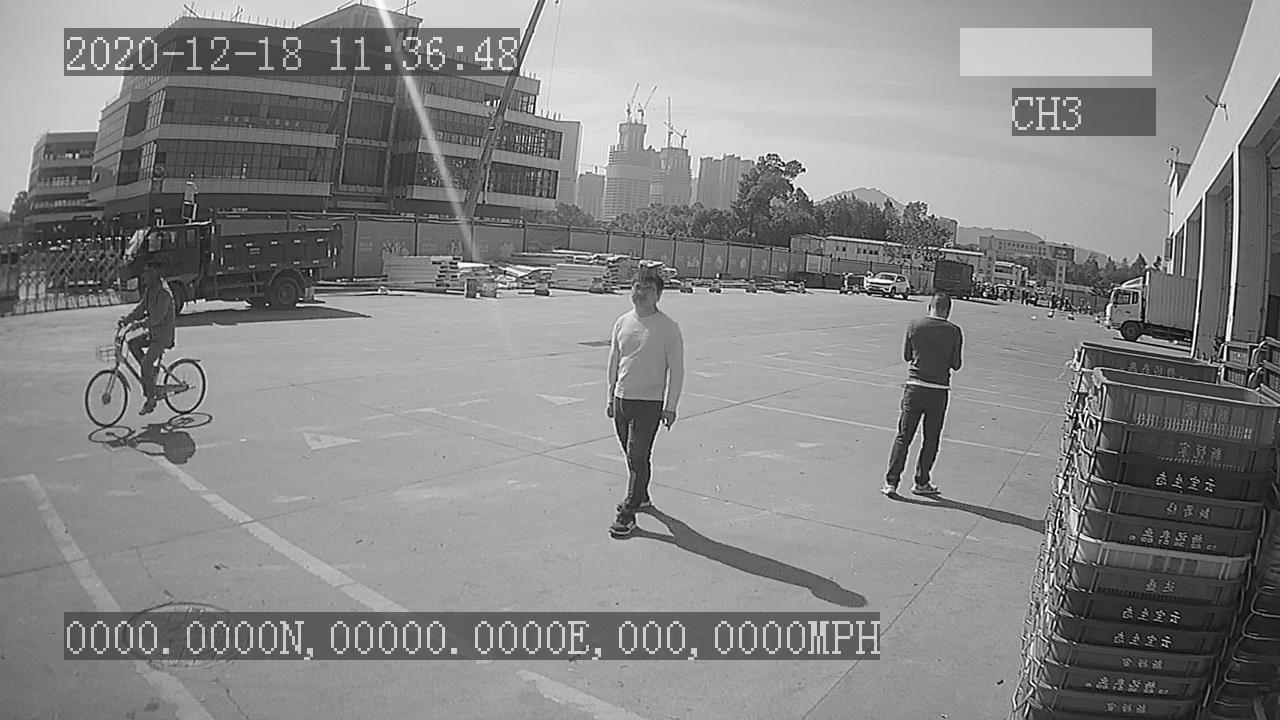person: (599, 268, 688, 540), (880, 290, 965, 502)
